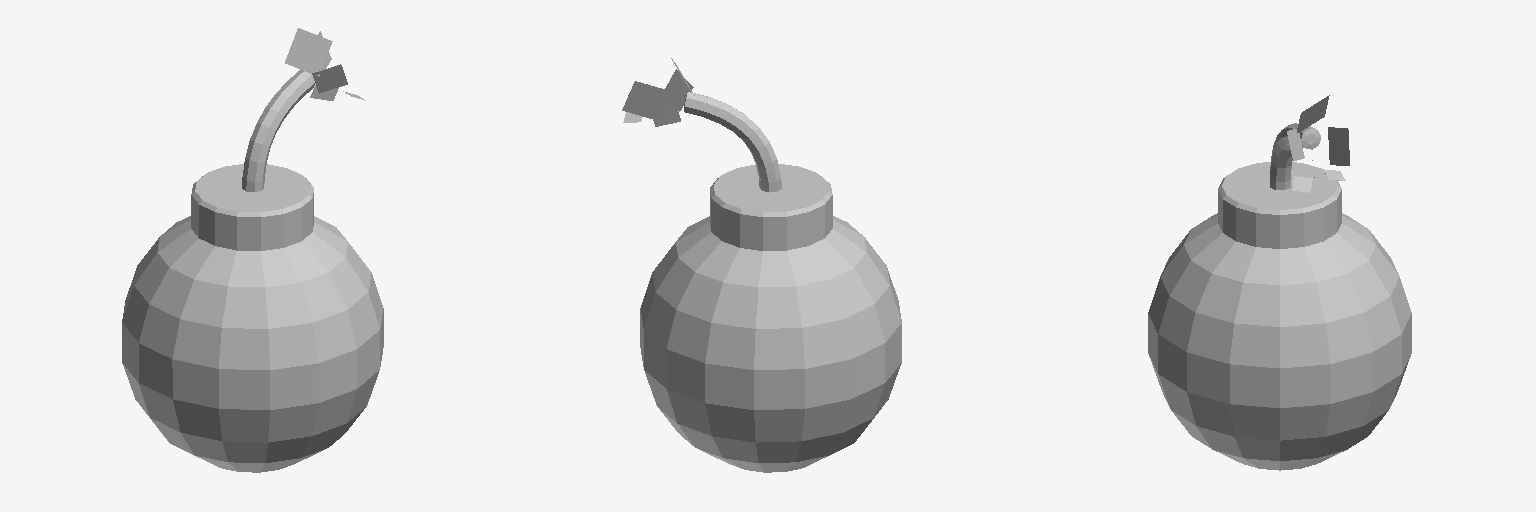
The model's file is bomb_000013.obj.
3 renders of one model, left to right at view 1: azimuth 30°, elevation 25°; view 2: azimuth 150°, elevation 25°; view 3: azimuth 270°, elevation 25°, orthographic.
Parts seen in each view (by area): view 1: Sphere, NurbsPath, Plane_5.001_Mesh.001; view 2: Sphere, NurbsPath, Plane_5.001_Mesh.001; view 3: Sphere, Plane_5.001_Mesh.001, NurbsPath.
Part boxes in pixels (x1,y1,x2,y2): Sphere: (122,164,383,472); NurbsPath: (242,70,315,191); Plane_5.001_Mesh.001: (285,28,365,100); Sphere: (640,164,901,472); NurbsPath: (684,92,781,192); Plane_5.001_Mesh.001: (622,58,694,126); Sphere: (1148,162,1411,470); Plane_5.001_Mesh.001: (1287,95,1349,192); NurbsPath: (1270,123,1320,189).
Size of the model in its own units: 0.9168 by 1.45 by 0.8919.